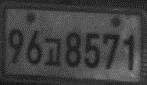1: (122, 33, 135, 71)
5: (83, 32, 101, 69)
6: (24, 29, 43, 65)
7: (100, 32, 120, 69)
8: (64, 31, 82, 67)
9: (7, 28, 25, 65)
고: (43, 36, 62, 68)
